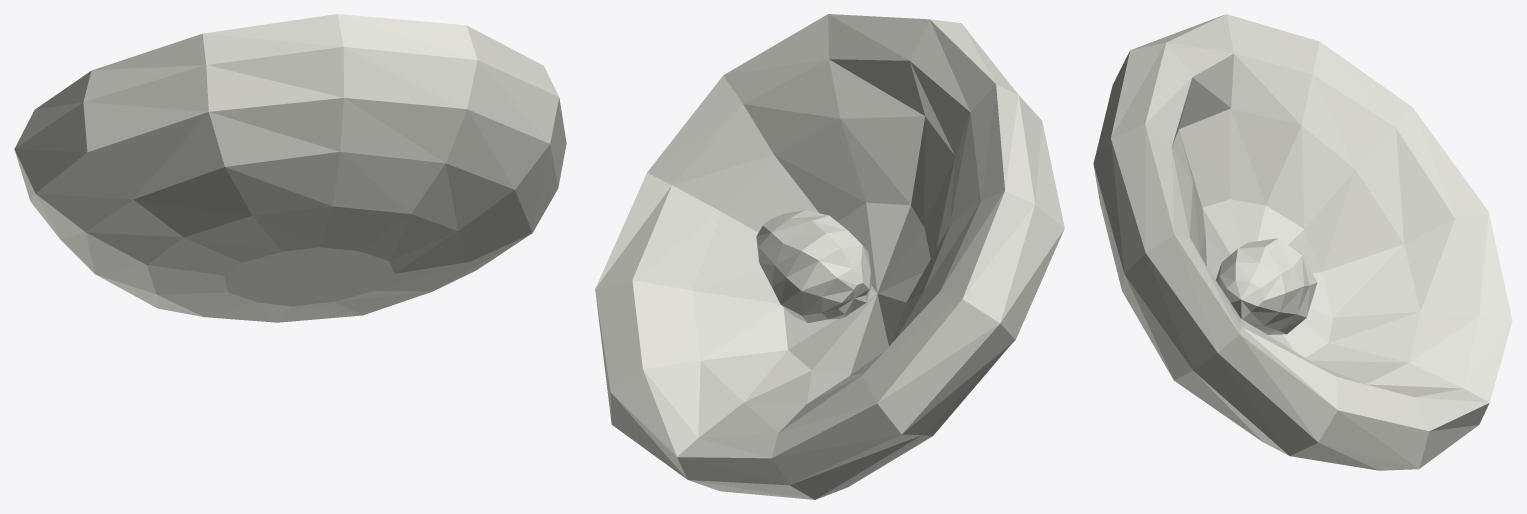
File: nest.glb
3 views of the same model, side by side, from view 1: azimuth 30°, elevation 25°; view 2: azimuth 150°, elevation 25°; view 3: azimuth 270°, elevation 25° (orthographic). The views are drawn at different scales.
Parts seen in each view (by area): view 1: node_id105.001; view 2: node_id105.001, node_id105.002; view 3: node_id105.001, node_id105.002.
Part boxes in pixels (<box>): node_id105.001: <box>14,14,566,322</box>; node_id105.001: <box>595,14,1064,499</box>; node_id105.002: <box>756,210,871,322</box>; node_id105.001: <box>1093,14,1512,470</box>; node_id105.002: <box>1216,238,1317,334</box>.
Size of the model in its own units: 20.89 by 21.16 by 17.88.
3 materials, 3 textured.
